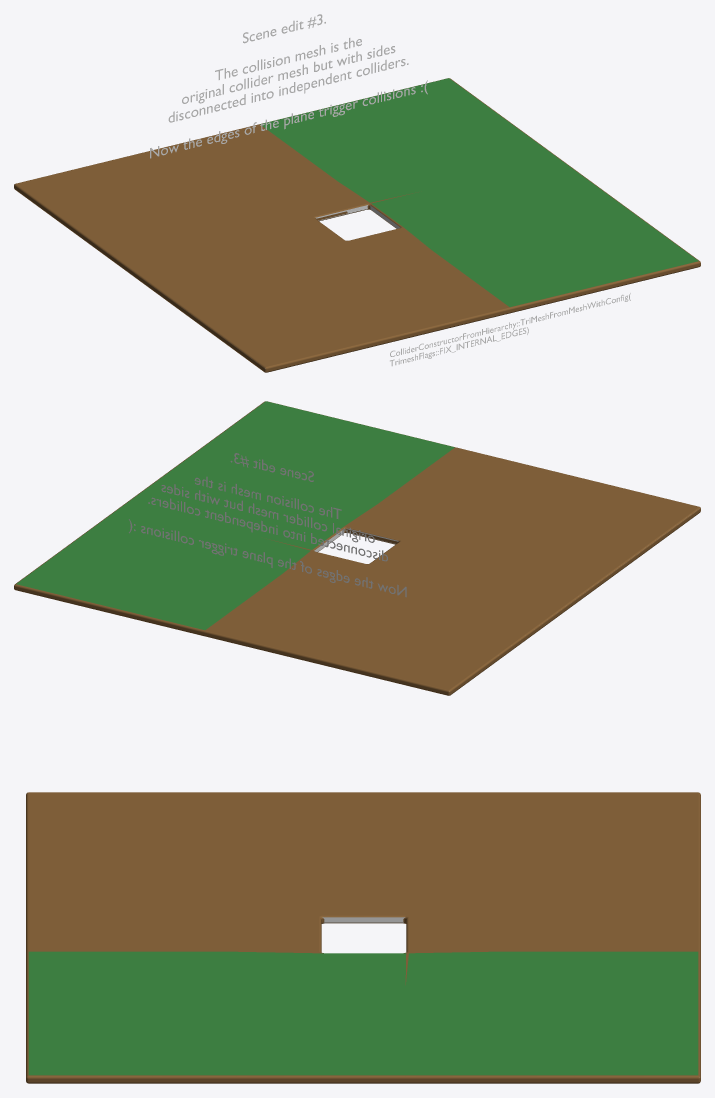
File: level_0_edit_3.glb
The picture shows the model from 3 angles, top to bottom: view 1: azimuth 30°, elevation 25°; view 2: azimuth 150°, elevation 25°; view 3: azimuth 270°, elevation 25°; orthographic projection. The views are drawn at different scales.
Parts seen in each view (by area): view 1: Floor.010, Text.012, Text.006; view 2: Floor.010, Text.012; view 3: Floor.010.
Boxes of the visible parts, <box> form: Floor.010: <box>14,78,700,372</box>; Text.012: <box>150,14,427,158</box>; Text.006: <box>390,293,630,366</box>; Floor.010: <box>14,401,700,695</box>; Text.012: <box>129,453,406,597</box>; Floor.010: <box>26,792,700,1083</box>.
Size of the model in its own units: 29.71 by 10.88 by 30.24.
